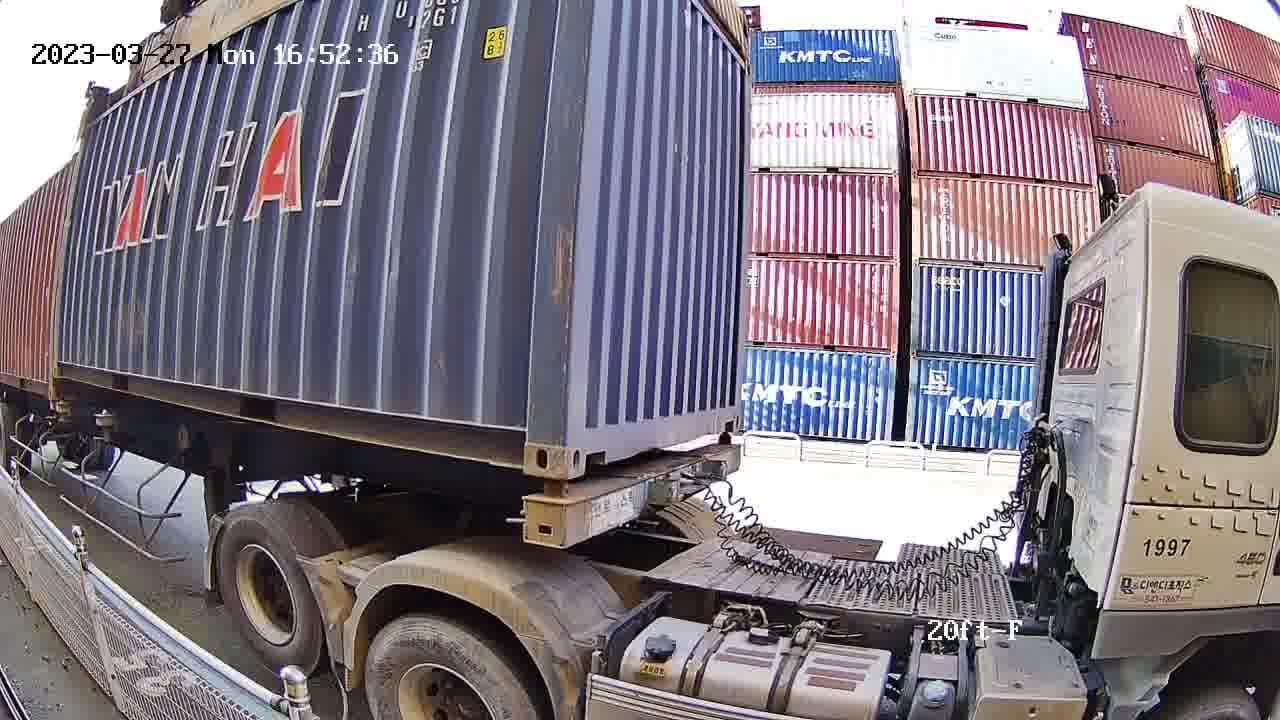Chassis: (525, 443, 740, 549)
Cone: (535, 484, 565, 550)
Hole_L: (562, 410, 610, 480)
Hole_R: (494, 409, 565, 480), (716, 397, 744, 434)
Tire: (215, 512, 322, 678), (366, 619, 536, 716)
